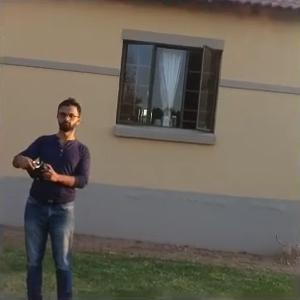follow: (6, 94, 93, 298)
null: (270, 233, 299, 270)
